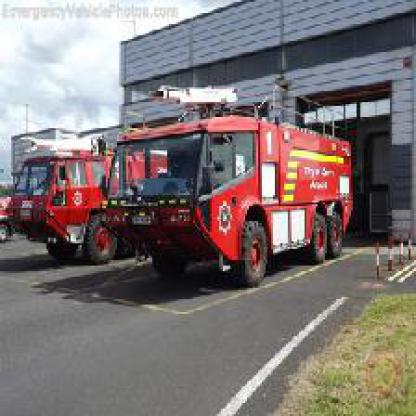emergency: (15, 139, 379, 297)
